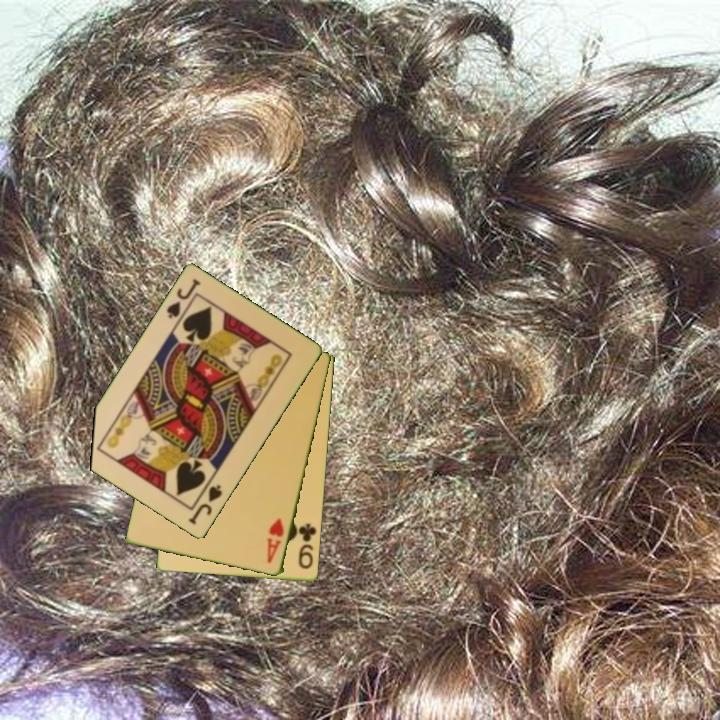9c: (295, 520, 319, 572)
Ah: (264, 515, 287, 567)
Js: (163, 275, 204, 322), (185, 481, 225, 528)
